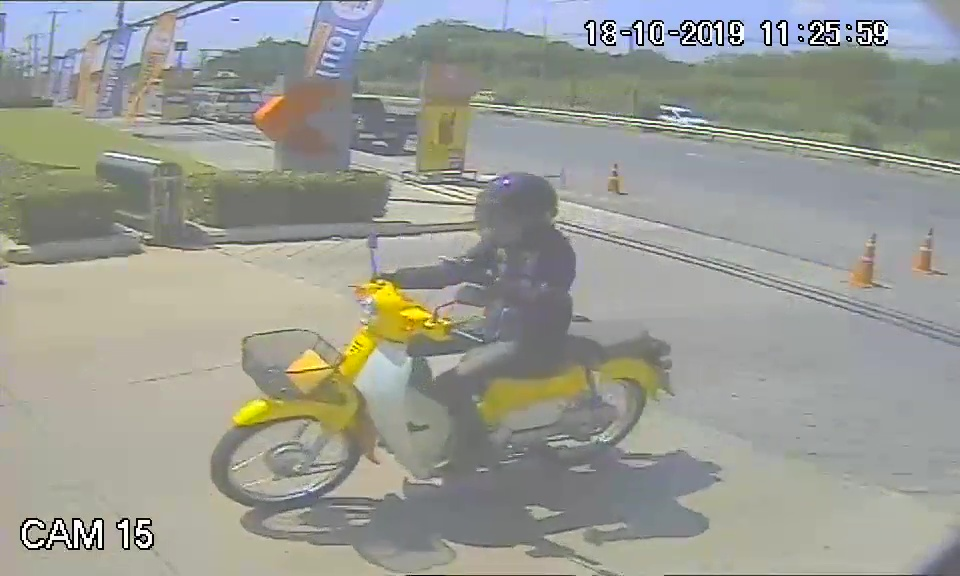motorcycle: (208, 272, 678, 511)
